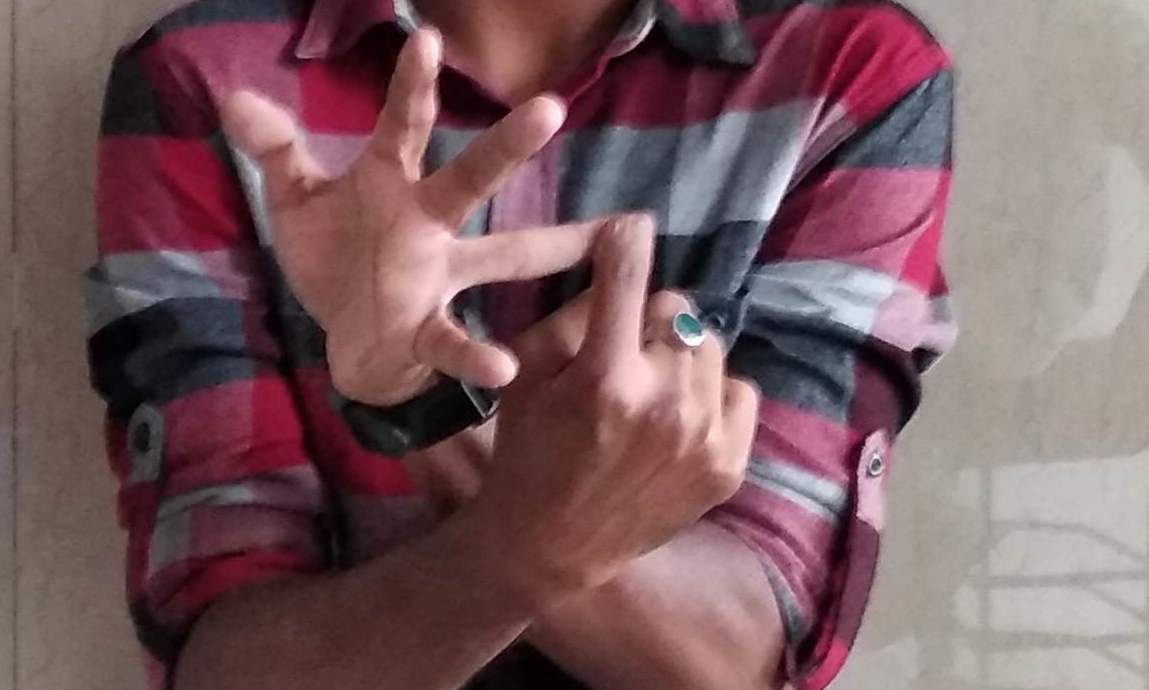e: (254, 79, 767, 442)
